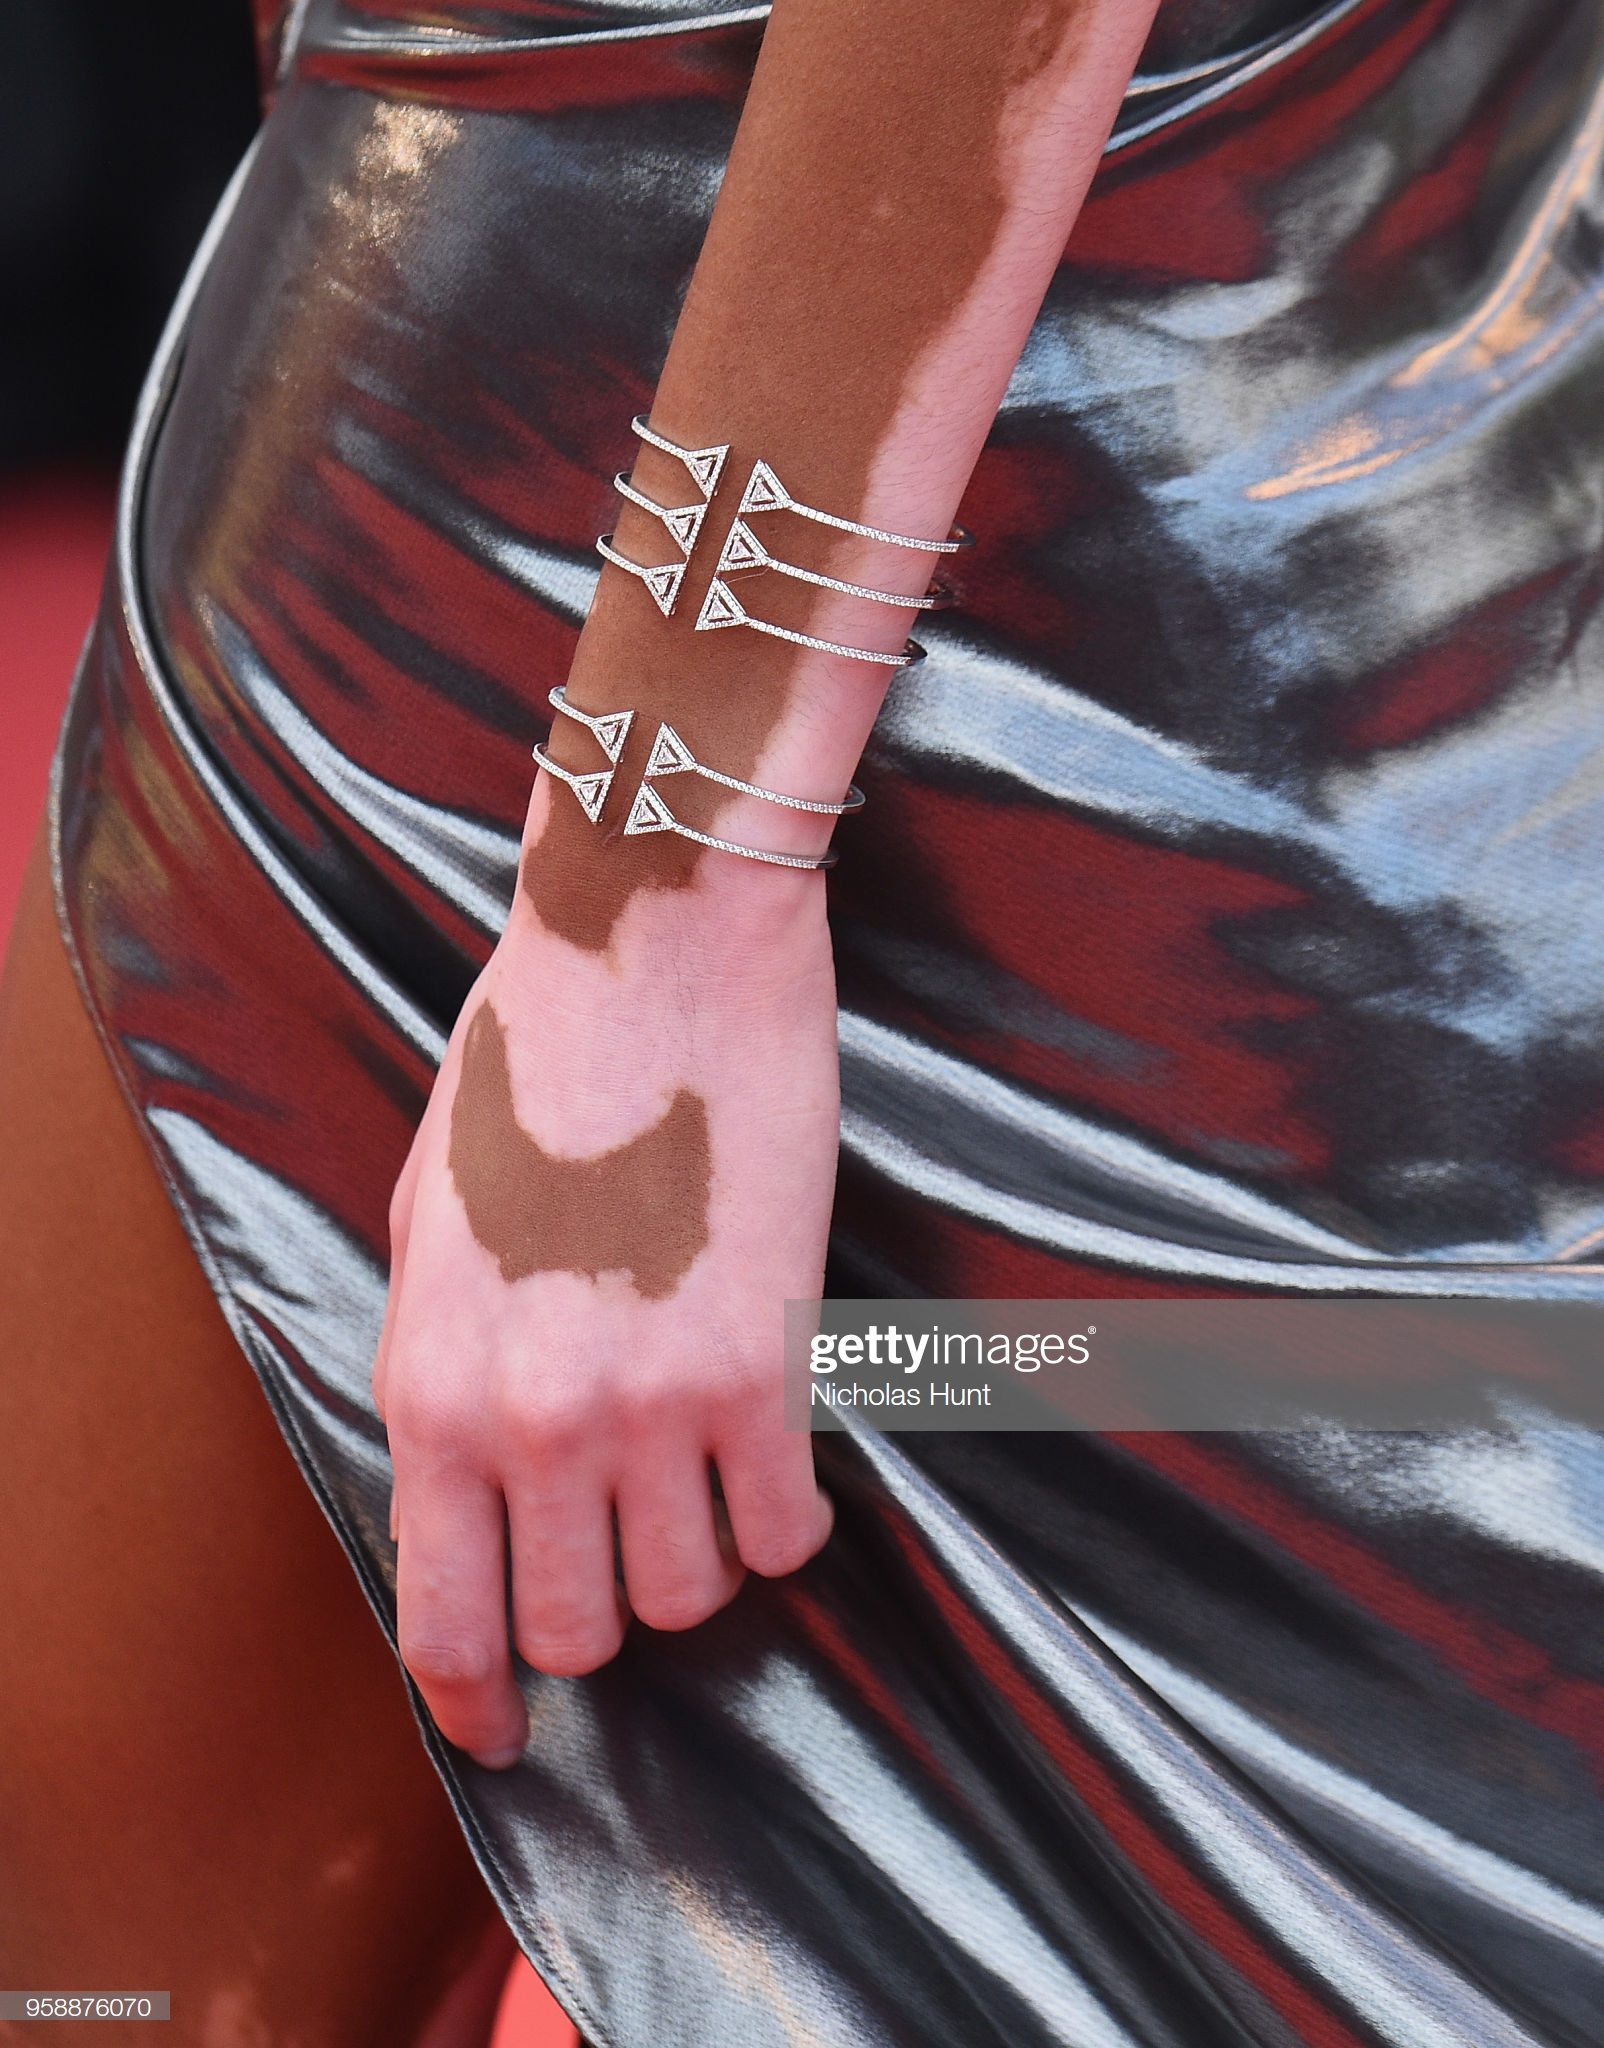vitiligo: (442, 909, 853, 1611)
